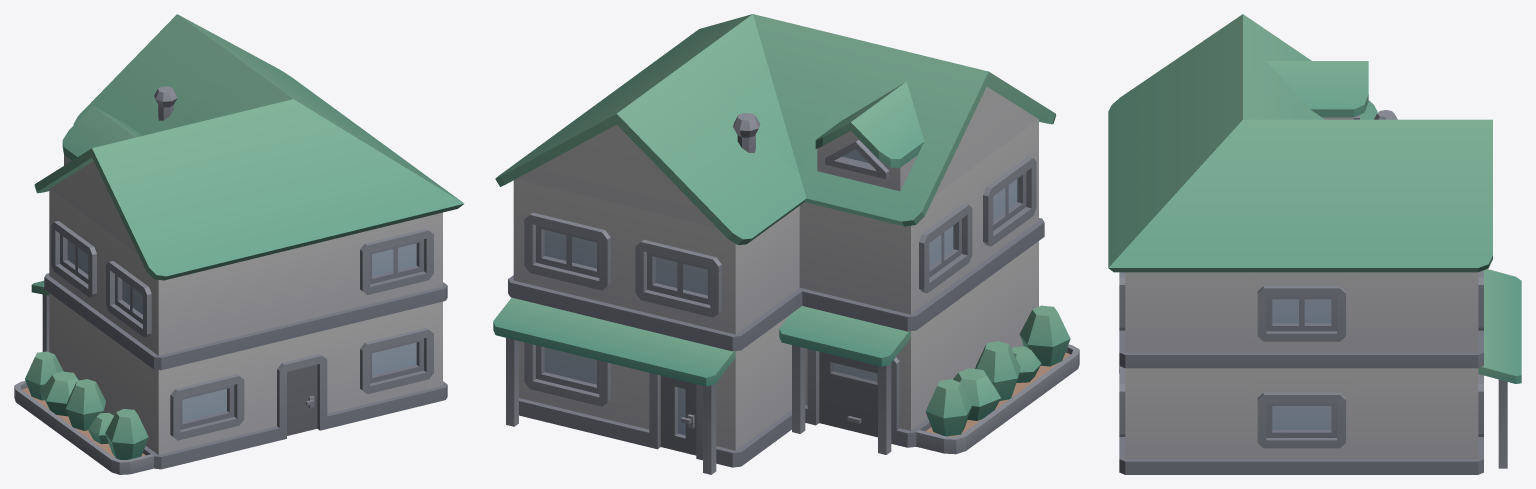
Rendered from house-b.glb.
The picture shows the model from 3 angles, left to right: view 1: azimuth 30°, elevation 25°; view 2: azimuth 150°, elevation 25°; view 3: azimuth 270°, elevation 25°; orthographic projection. The views are drawn at different scales.
Parts seen in each view (by area): view 1: house-b; view 2: house-b; view 3: house-b.
Boxes of the visible parts, box(x1,y1,x2,y2) form: house-b: box(14, 14, 464, 474); house-b: box(493, 14, 1079, 474); house-b: box(1108, 14, 1521, 474).
Size of the model in its own units: 1.43 by 1.14 by 1.41.
